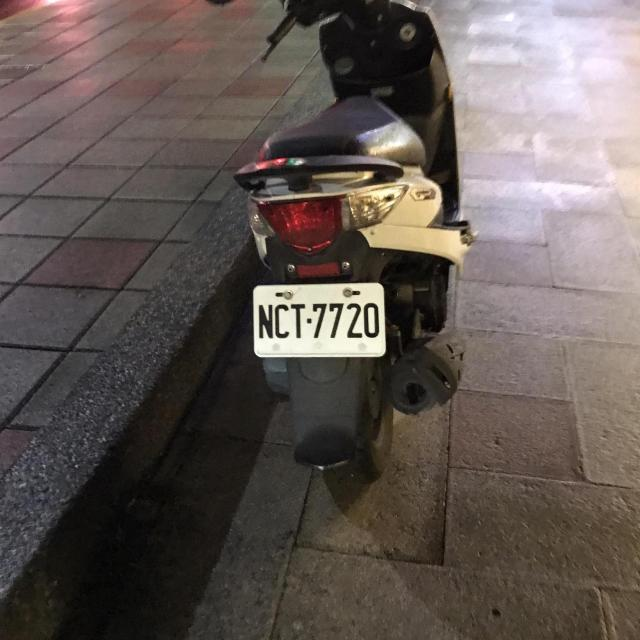W: (248, 276, 388, 363)
